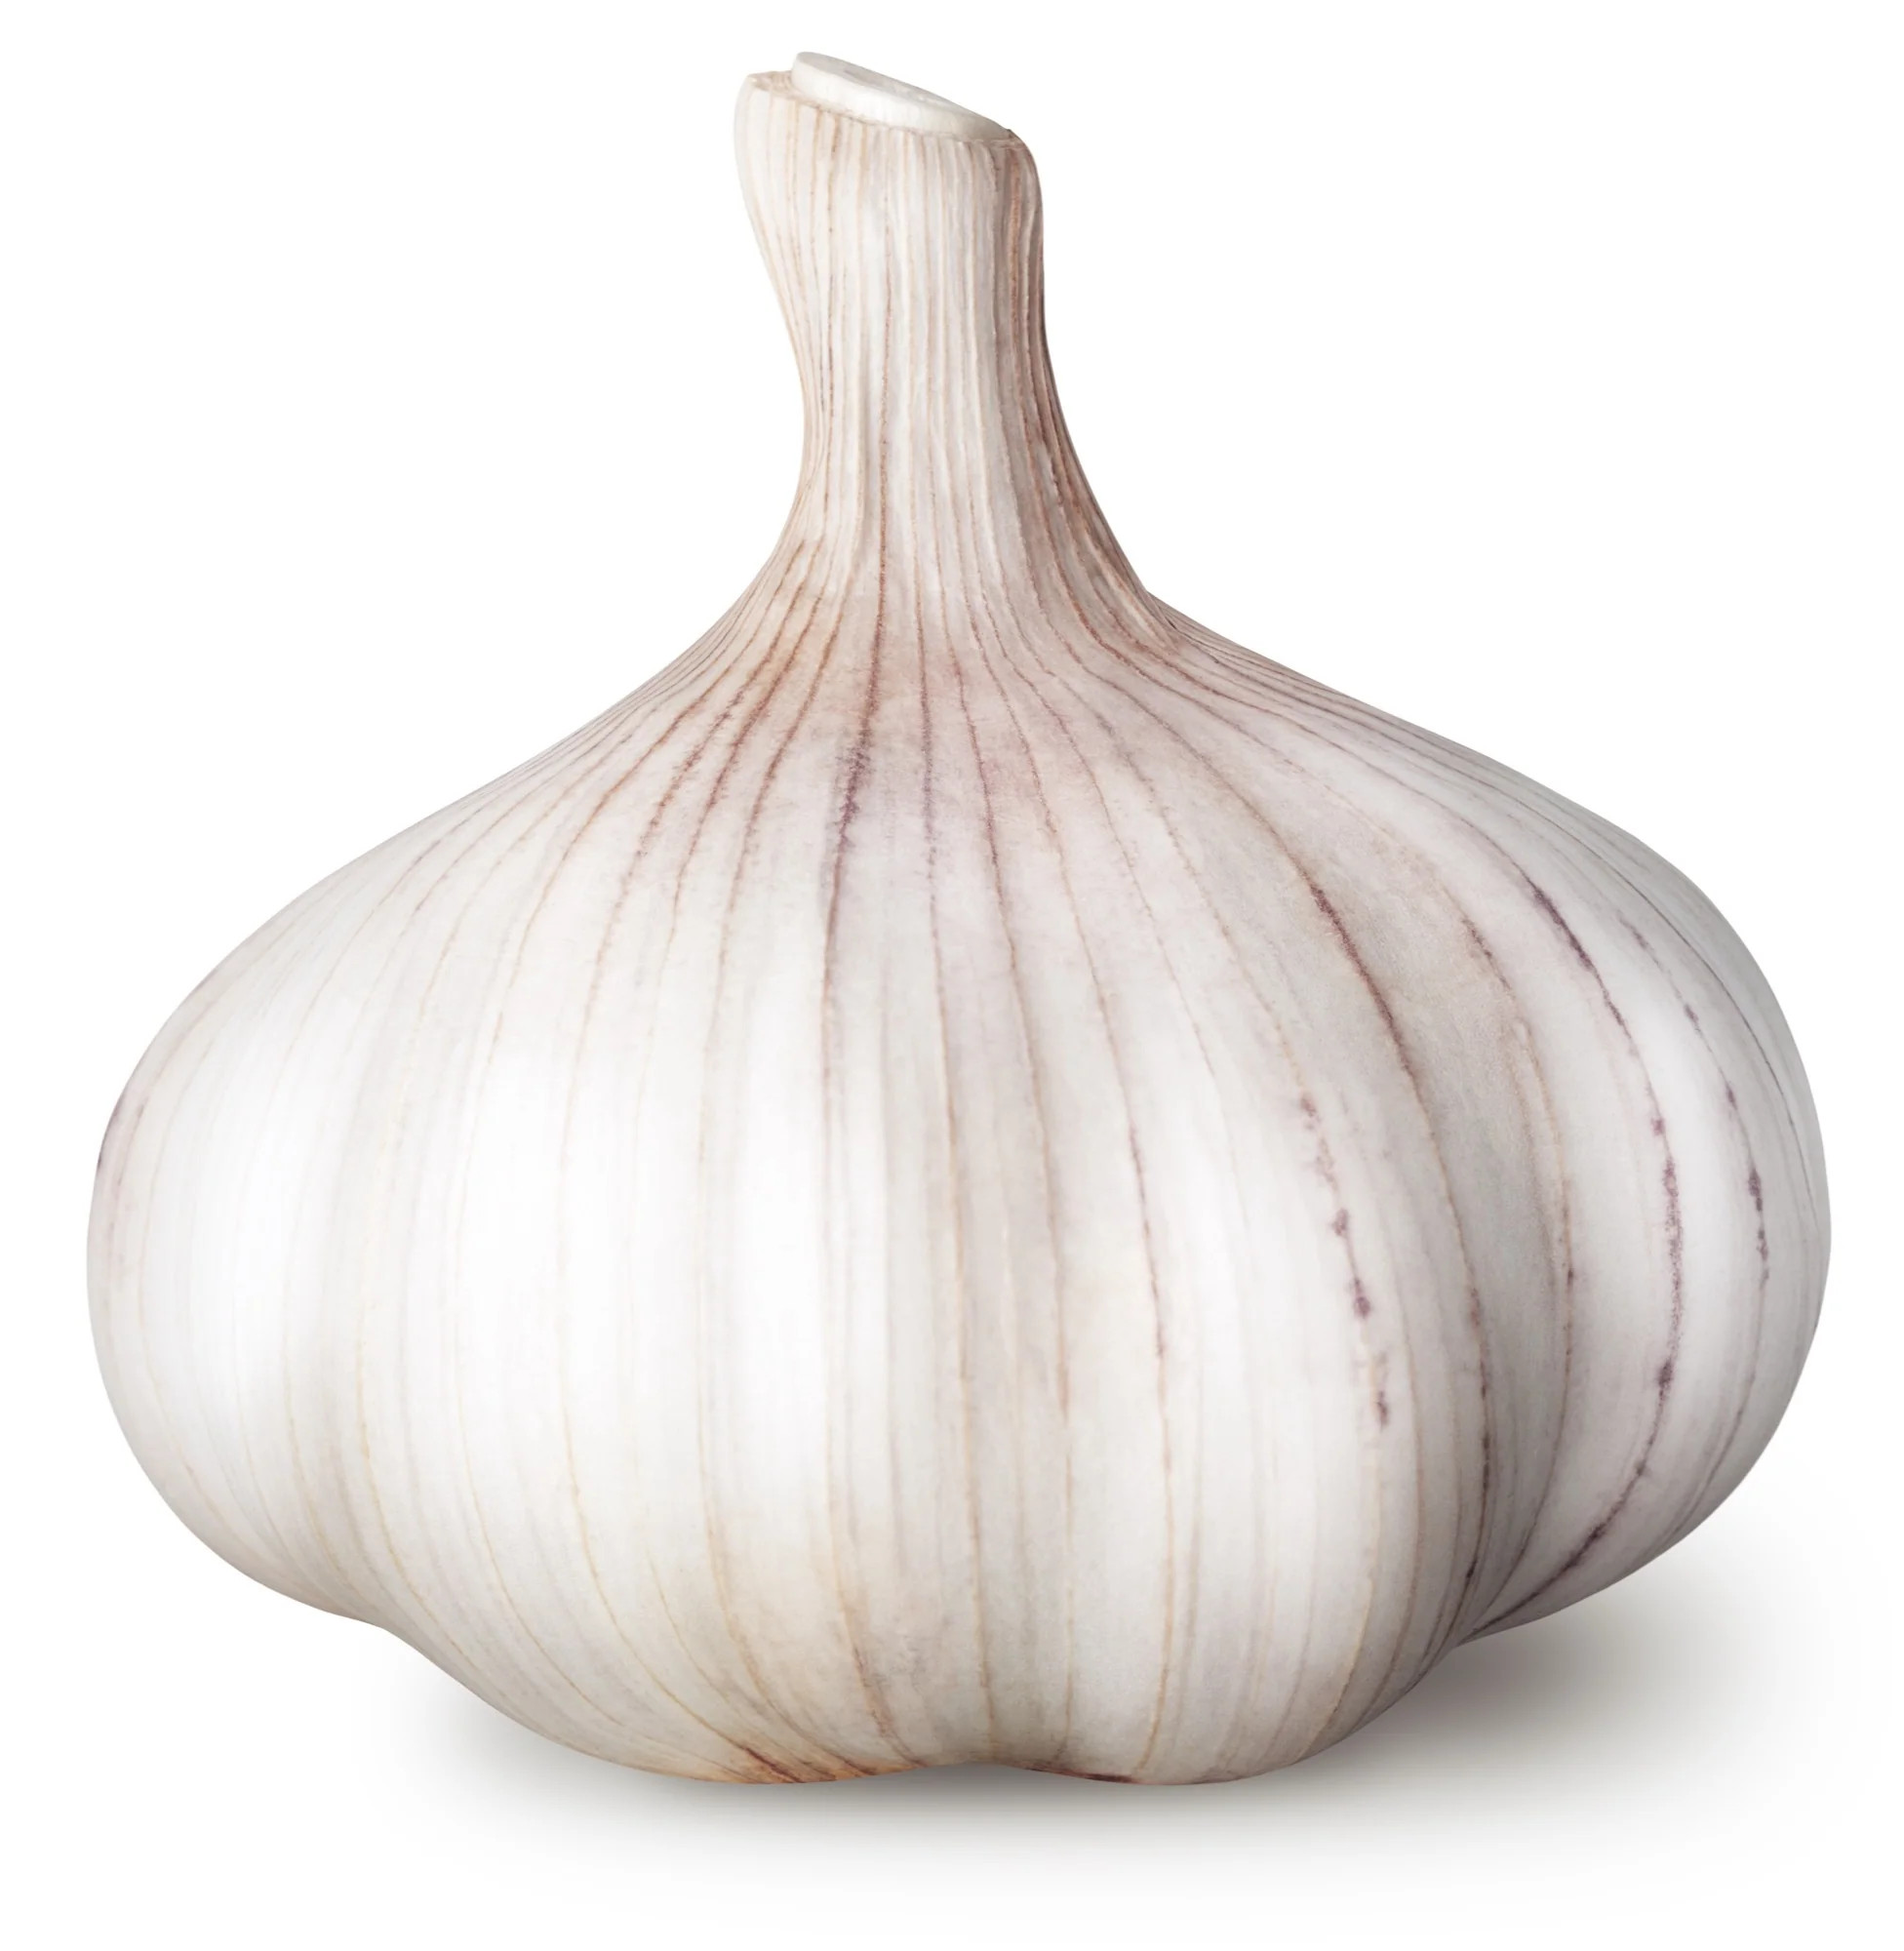garlic: (73, 31, 1841, 1799)
